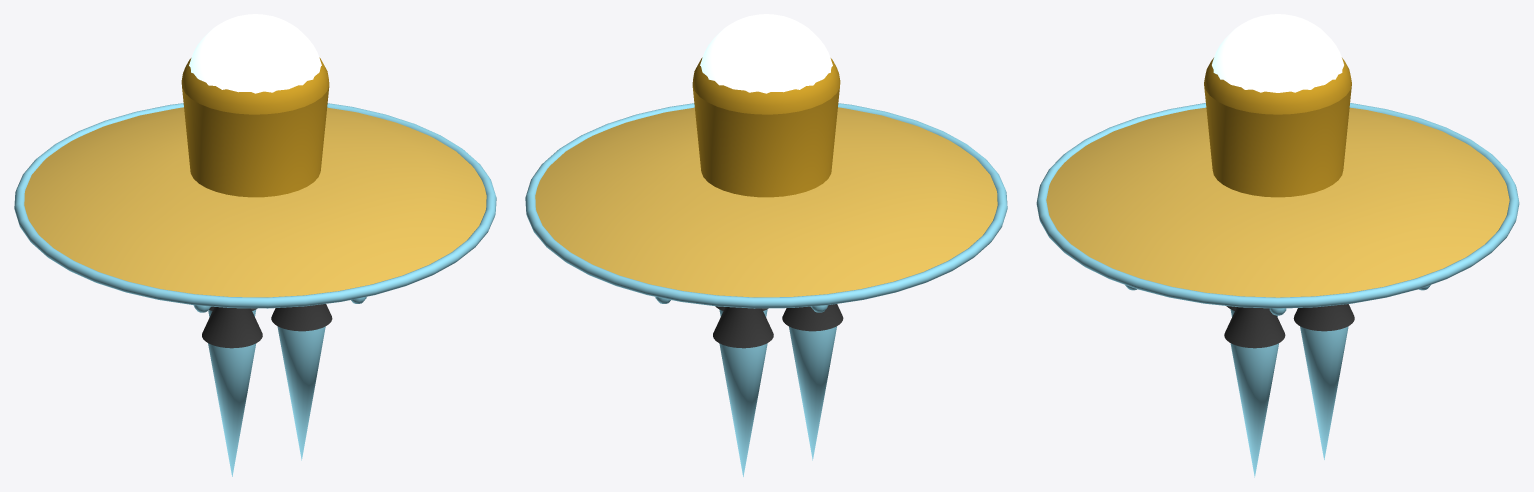
The model's file is Rocket_26_GoldSaucer.fbx.
The picture shows the model from 3 angles, left to right: view 1: azimuth 30°, elevation 25°; view 2: azimuth 150°, elevation 25°; view 3: azimuth 270°, elevation 25°; orthographic projection.
Parts seen in each view (by area): view 1: R26_Saucer, R26_Body, R26_SaucerGlow, R26_Dome, R26_Nose, R26_Flame_3, R26_Flame_2, R26_Nozzle_2, R26_Nozzle_3; view 2: R26_Saucer, R26_Body, R26_SaucerGlow, R26_Dome, R26_Nose, R26_Flame_1, R26_Flame_2, R26_Nozzle_1, R26_Nozzle_2; view 3: R26_Saucer, R26_Body, R26_SaucerGlow, R26_Dome, R26_Nose, R26_Flame_3, R26_Flame_1, R26_Nozzle_3, R26_Nozzle_1.
Boxes of the visible parts, x1,y1,x2,y2 form: R26_Saucer: (24,107,486,297); R26_Body: (182,86,329,197); R26_SaucerGlow: (14,103,496,308); R26_Dome: (189,14,321,93); R26_Nose: (181,57,329,114); R26_Flame_3: (277,326,325,460); R26_Flame_2: (208,343,256,476); R26_Nozzle_2: (202,307,262,348); R26_Nozzle_3: (271,304,332,331); R26_Saucer: (535,107,997,297); R26_Body: (692,86,839,197); R26_SaucerGlow: (525,103,1007,308); R26_Dome: (700,14,832,93); R26_Nose: (692,57,840,114); R26_Flame_1: (719,343,767,476); R26_Flame_2: (789,326,836,460); R26_Nozzle_1: (713,307,773,348); R26_Nozzle_2: (782,304,843,331); R26_Saucer: (1046,107,1509,297); R26_Body: (1204,84,1351,197); R26_SaucerGlow: (1036,103,1519,308); R26_Dome: (1212,14,1343,92); R26_Nose: (1204,58,1351,114); R26_Flame_3: (1230,343,1278,477); R26_Flame_1: (1300,326,1348,459); R26_Nozzle_3: (1224,307,1285,348); R26_Nozzle_1: (1293,304,1354,331).
Bounding box in the file's own units: 5.22 × 5.25 × 5.22.
